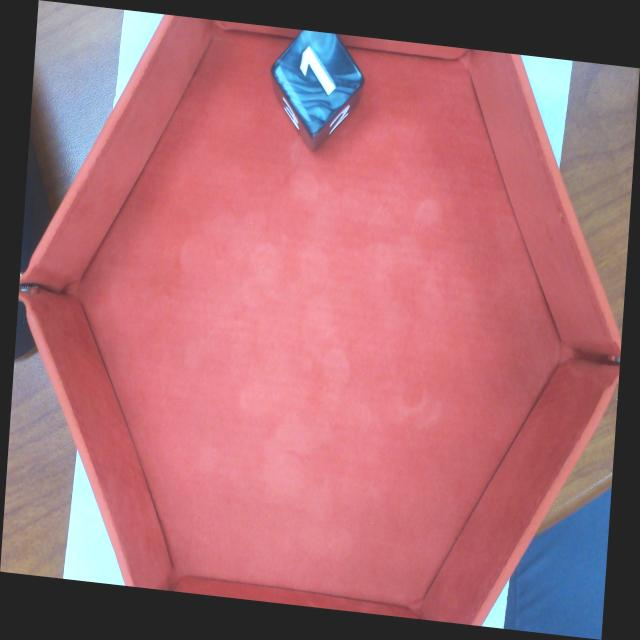dice: (271, 9, 366, 141)
